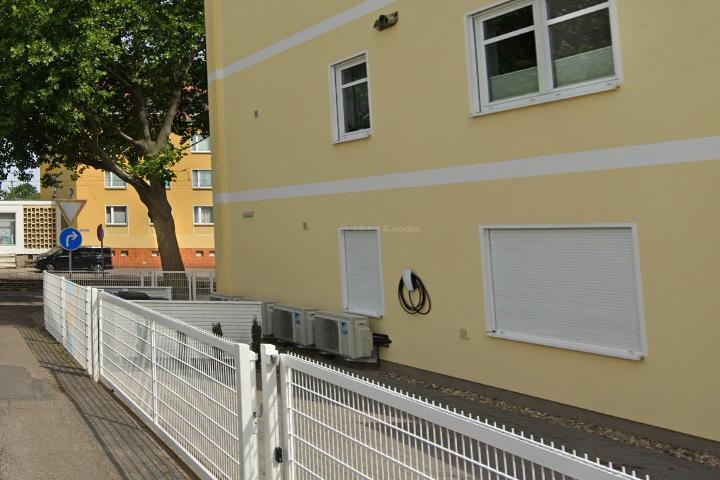traffic_sign: (54, 199, 87, 227), (58, 227, 83, 251)
vehicle: (34, 244, 114, 275)
